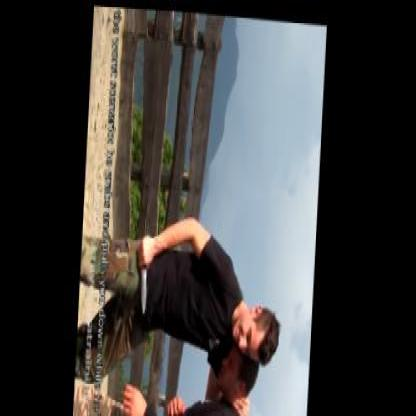knife: (132, 226, 156, 316)
